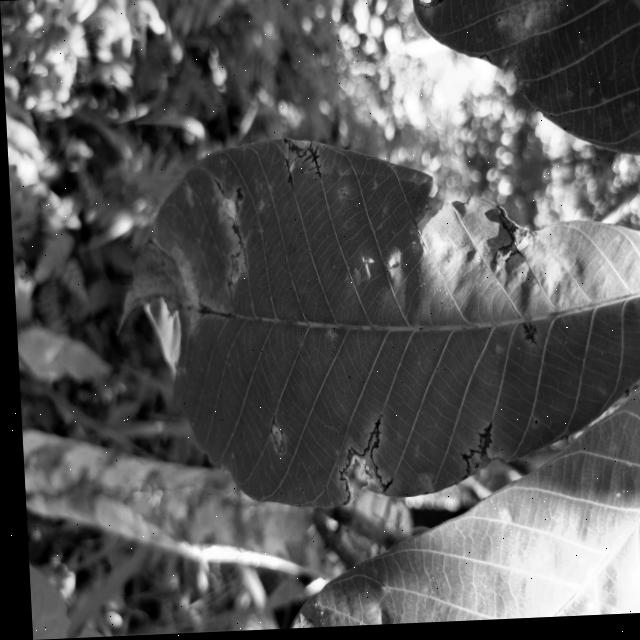Colletotrichum: (530, 424, 533, 428)
Corynespora: (297, 144, 320, 180), (357, 419, 379, 456), (466, 425, 489, 459), (229, 220, 245, 265), (197, 304, 231, 322), (455, 450, 469, 484), (519, 325, 534, 348), (282, 159, 292, 193), (212, 178, 225, 201), (376, 479, 390, 496)
Leaf-Blight: (108, 236, 208, 337), (487, 207, 536, 270), (337, 456, 379, 506), (282, 139, 311, 168), (224, 249, 244, 288), (463, 457, 486, 481), (265, 423, 280, 456), (219, 198, 234, 221)
